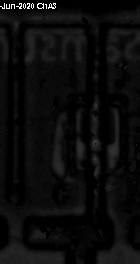led: (67, 94, 126, 179)
